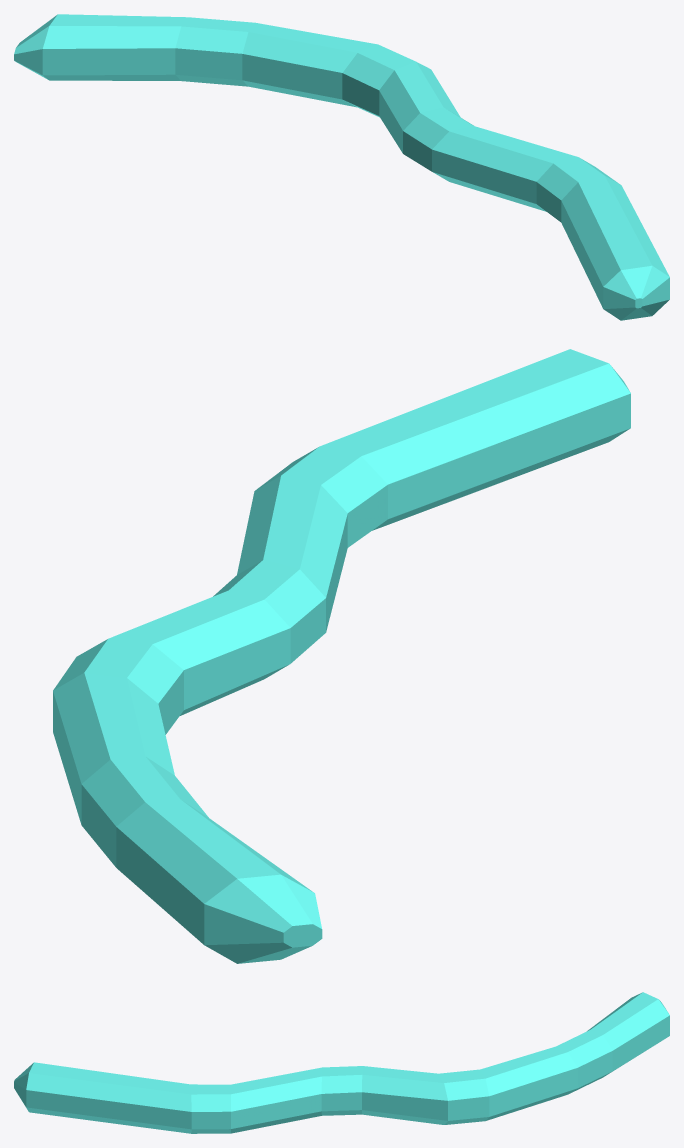
File: rio1.fbx
3 views of the same model, one above another, from view 1: azimuth 30°, elevation 25°; view 2: azimuth 150°, elevation 25°; view 3: azimuth 270°, elevation 25° (orthographic). The views are drawn at different scales.
Visible parts, largest first — view 1: Cube; view 2: Cube; view 3: Cube.
Boxes of the visible parts, x1=… form: Cube: x1=14, y1=14, x2=669, y2=320; Cube: x1=53, y1=349, x2=630, y2=963; Cube: x1=14, y1=992, x2=669, y2=1133.
Size of the model in its own units: 2477 by 413 by 5769.
